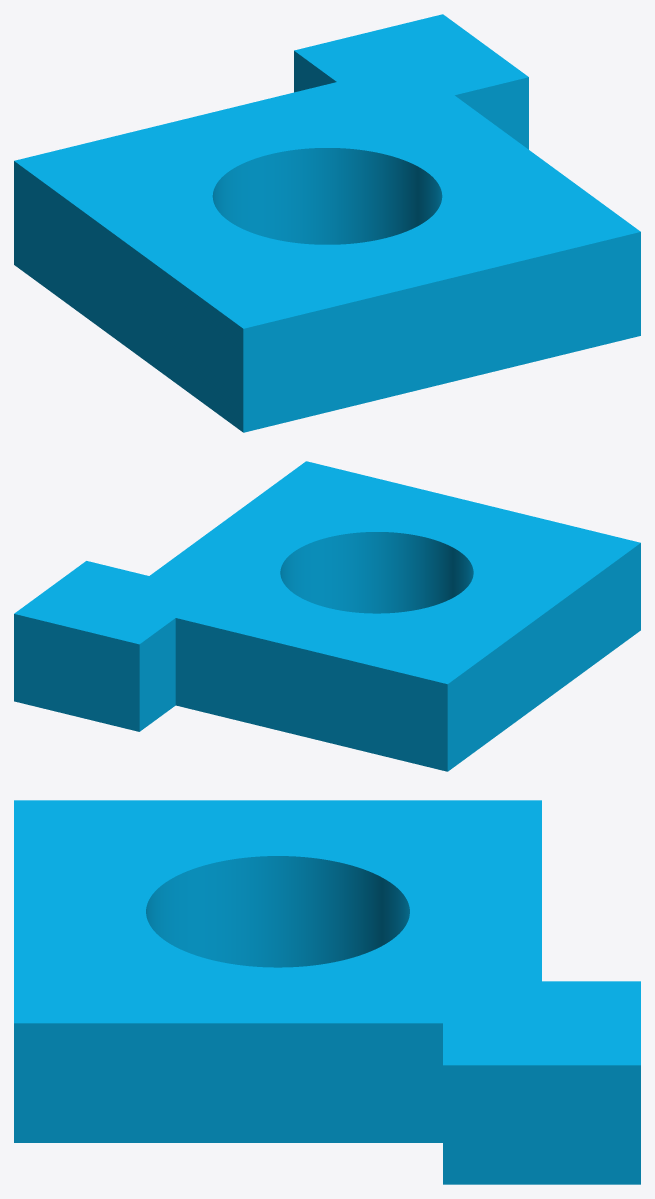
File: model_karma.gltf
3 views of the same model, one above another, from view 1: azimuth 30°, elevation 25°; view 2: azimuth 150°, elevation 25°; view 3: azimuth 270°, elevation 25° (orthographic). The views are drawn at different scales.
Visible parts, largest first — view 1: Gövde; view 2: Gövde; view 3: Gövde.
Boxes of the visible parts, x1,y1,x2,y2 form: Gövde: [14, 14, 640, 432]; Gövde: [14, 461, 640, 771]; Gövde: [14, 800, 640, 1184].
Size of the model in its own units: 0.0475 by 0.01 by 0.0475.
